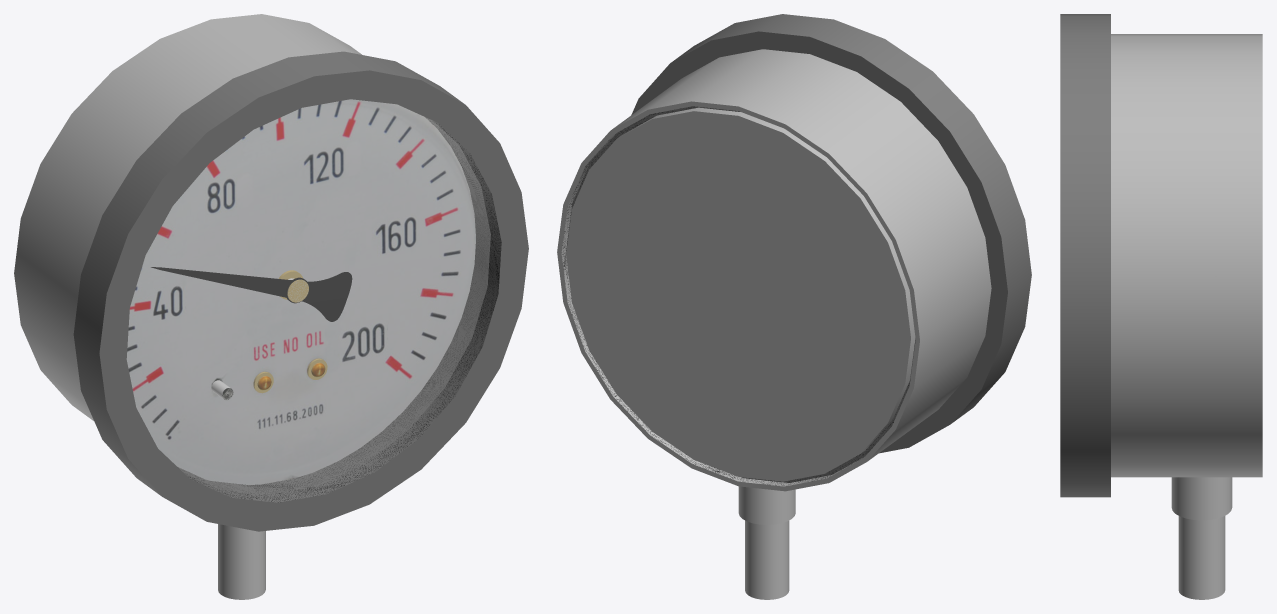
The picture shows the model from 3 angles, left to right: view 1: azimuth 30°, elevation 25°; view 2: azimuth 150°, elevation 25°; view 3: azimuth 270°, elevation 25°; orthographic projection. The views are drawn at different scales.
Visible parts, largest first — view 1: SketchUp (×5), Display (×2); view 2: SketchUp (×7); view 3: SketchUp (×4).
Boxes of the visible parts, <box> form: SketchUp (×5): <box>14,14,528,599</box>; Display (×2): <box>126,99,475,484</box>; SketchUp (×7): <box>557,14,1031,599</box>; SketchUp (×4): <box>1060,14,1262,599</box>.
Size of the model in its own units: 3 by 1.25 by 3.78.
